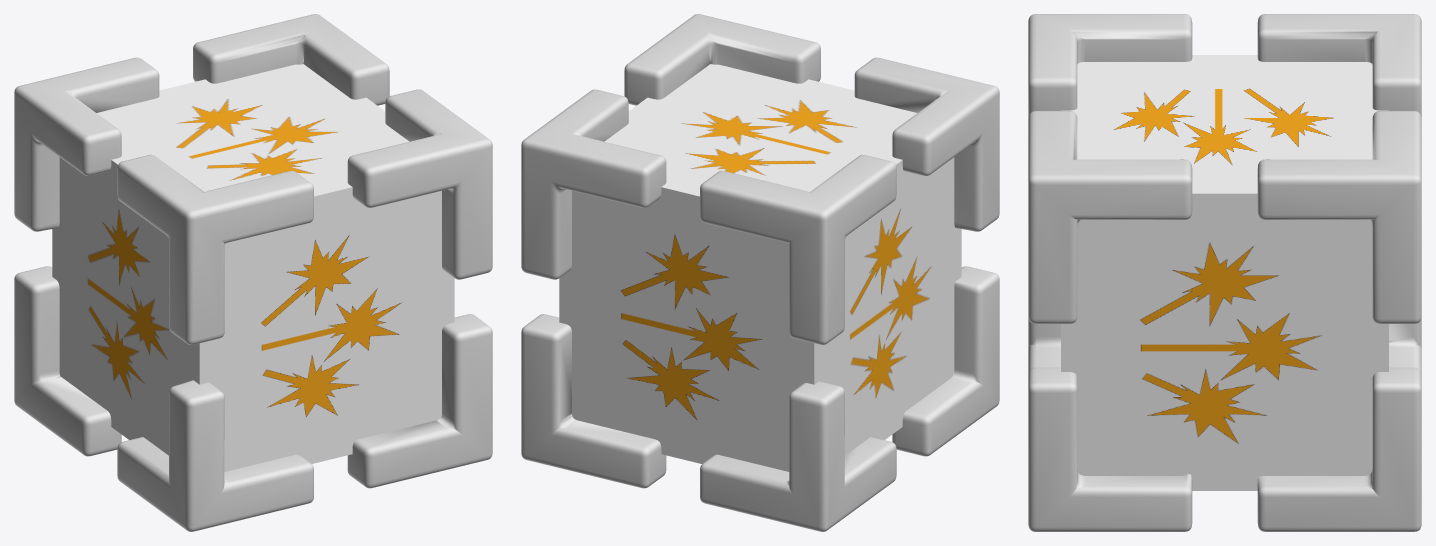
File: 3SpreadShellsBox.FBX
3 views of the same model, side by side, from view 1: azimuth 30°, elevation 25°; view 2: azimuth 150°, elevation 25°; view 3: azimuth 270°, elevation 25° (orthographic). The views are drawn at different scales.
Visible parts, largest first — view 1: MainBox, Corner005, Corner008, Corner001, Corner011, Corner007, Corner006, Corner010; view 2: MainBox, Corner011, Corner006, Corner010, Corner005, Corner002, Corner008, Corner001; view 3: MainBox, Corner001, Corner010, Corner007, Corner002, Corner005, Corner011, Corner006, Corner008.
Part boxes in pixels (left/top/right/bottom): MainBox: left=52, top=64, right=454, bottom=471; Corner005: left=117, top=154, right=313, bottom=344; Corner008: left=117, top=380, right=313, bottom=531; Corner001: left=347, top=89, right=492, bottom=279; Corner011: left=14, top=57, right=159, bottom=231; Corner007: left=347, top=314, right=492, bottom=488; Corner006: left=14, top=266, right=121, bottom=456; Corner010: left=193, top=14, right=389, bottom=105; MainBox: left=559, top=64, right=961, bottom=471; Corner011: left=700, top=154, right=896, bottom=344; Corner006: left=700, top=381, right=896, bottom=531; Corner010: left=521, top=89, right=666, bottom=279; Corner005: left=854, top=57, right=999, bottom=231; Corner002: left=521, top=314, right=666, bottom=488; Corner008: left=892, top=266, right=999, bottom=456; Corner001: left=624, top=14, right=820, bottom=105; MainBox: left=1061, top=55, right=1388, bottom=490; Corner001: left=1028, top=111, right=1192, bottom=323; Corner010: left=1257, top=111, right=1421, bottom=323; Corner007: left=1028, top=367, right=1192, bottom=531; Corner002: left=1257, top=367, right=1421, bottom=531; Corner005: left=1028, top=14, right=1192, bottom=117; Corner011: left=1257, top=14, right=1421, bottom=117; Corner006: left=1389, top=317, right=1421, bottom=373; Corner008: left=1028, top=317, right=1060, bottom=373.
Size of the model in its own units: 120 by 120 by 120.
1 material, 1 textured.
